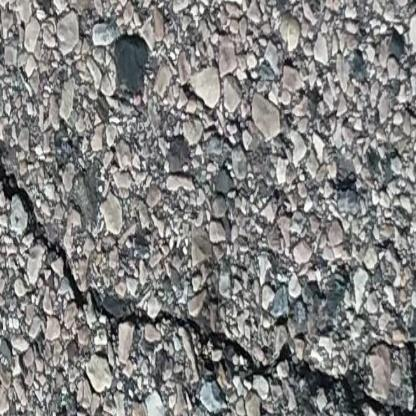Cracks: (0, 112, 416, 416), (409, 0, 416, 119)
